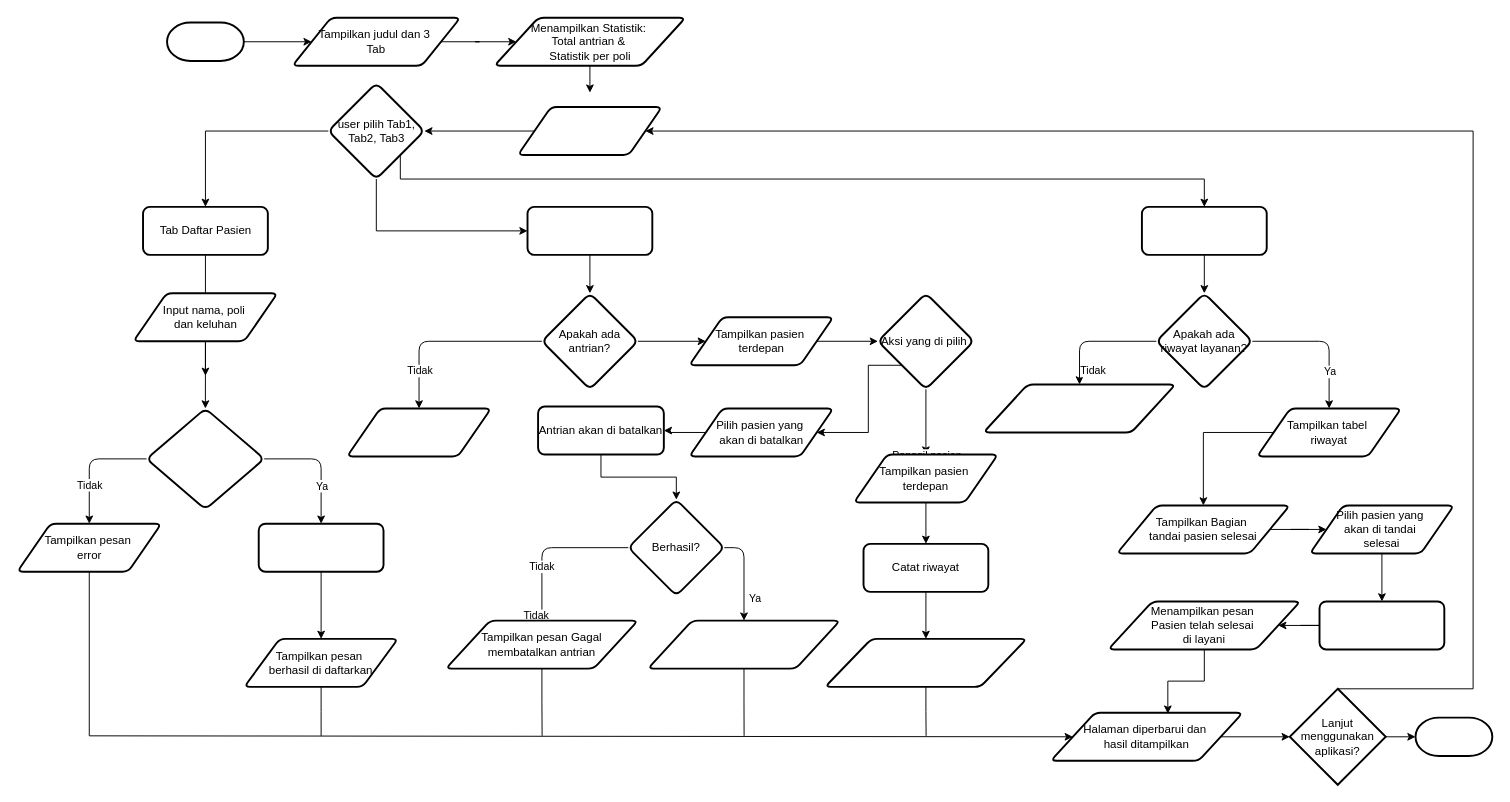
Image size: 1510x802. Some labels were removed from this diagram. The box of each missing label's shape, as (x1, y1, x2, y2) in pixels:
Apakah syarat nama dan keluahan terpenuhi ?: (145, 407, 265, 510)
END: (1414, 716, 1493, 756)
Menampilkan pesan Belum ada riwayat layanan: (982, 383, 1176, 433)
Pasien akan di tandai selesai: (1318, 600, 1445, 650)
START: (166, 21, 244, 61)
Tab Panggil Antrian: (526, 205, 653, 255)
Tab Riwayat Layanan: (1140, 205, 1267, 255)
Tambahkan antrian: (257, 522, 384, 572)
Tampilan Tab: (516, 106, 662, 156)
Tampilkan pesan Antrian berhasil di batalkan: (647, 619, 840, 669)
Tampilkan pesan Antrian Kosong: (346, 407, 492, 457)
Tampilkan pesan Silahkan menuju poli yang di input: (824, 637, 1027, 687)
